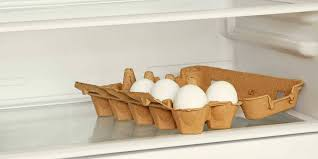eggs: (149, 73, 210, 117), (196, 64, 238, 122), (116, 59, 161, 105)
